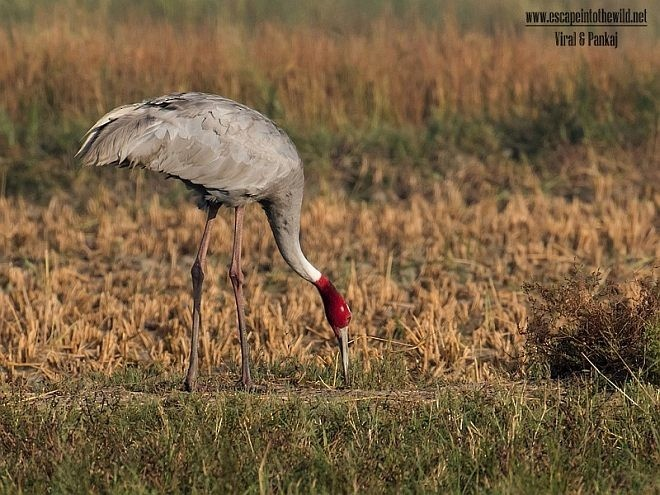crane: (85, 87, 374, 404)
